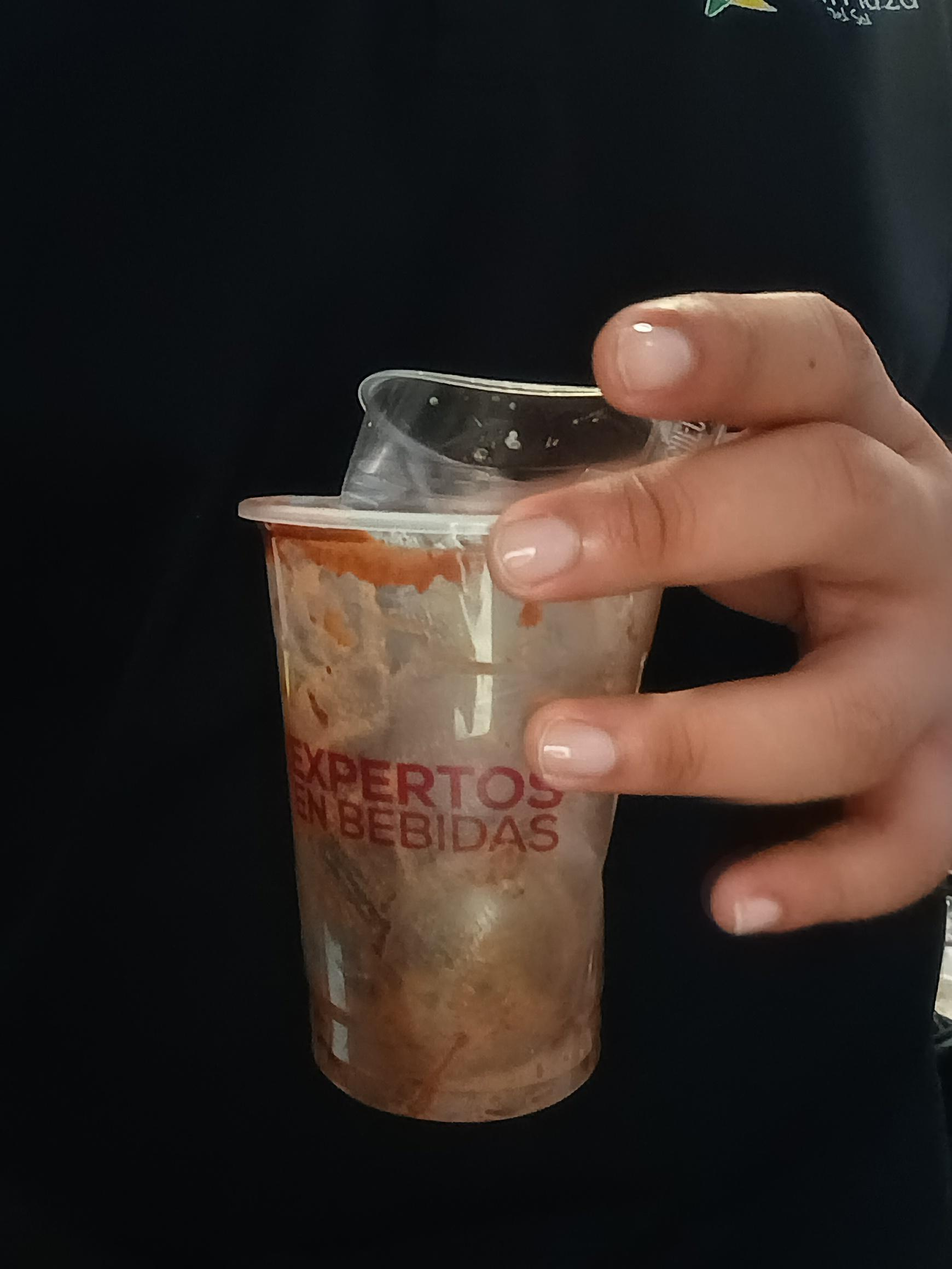Plastico: (239, 368, 660, 1124)
